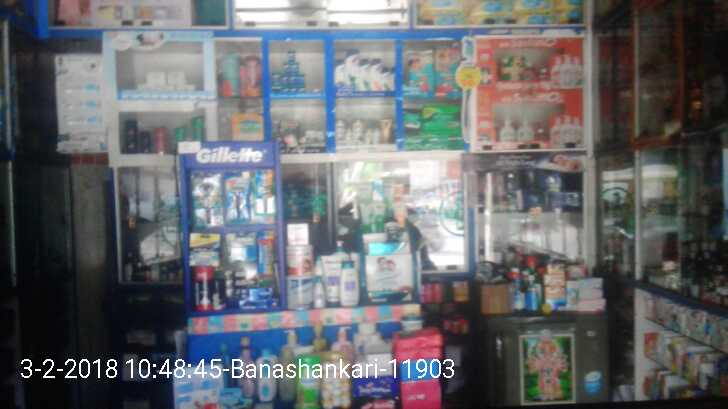beauty: (190, 171, 222, 226), (224, 173, 250, 225), (250, 171, 277, 215), (356, 58, 370, 92), (346, 47, 356, 89), (371, 57, 382, 88), (377, 118, 391, 142), (352, 117, 362, 146)
pharmacy: (419, 102, 461, 144), (431, 46, 458, 95), (406, 52, 434, 92), (402, 104, 420, 137), (284, 44, 298, 63)
